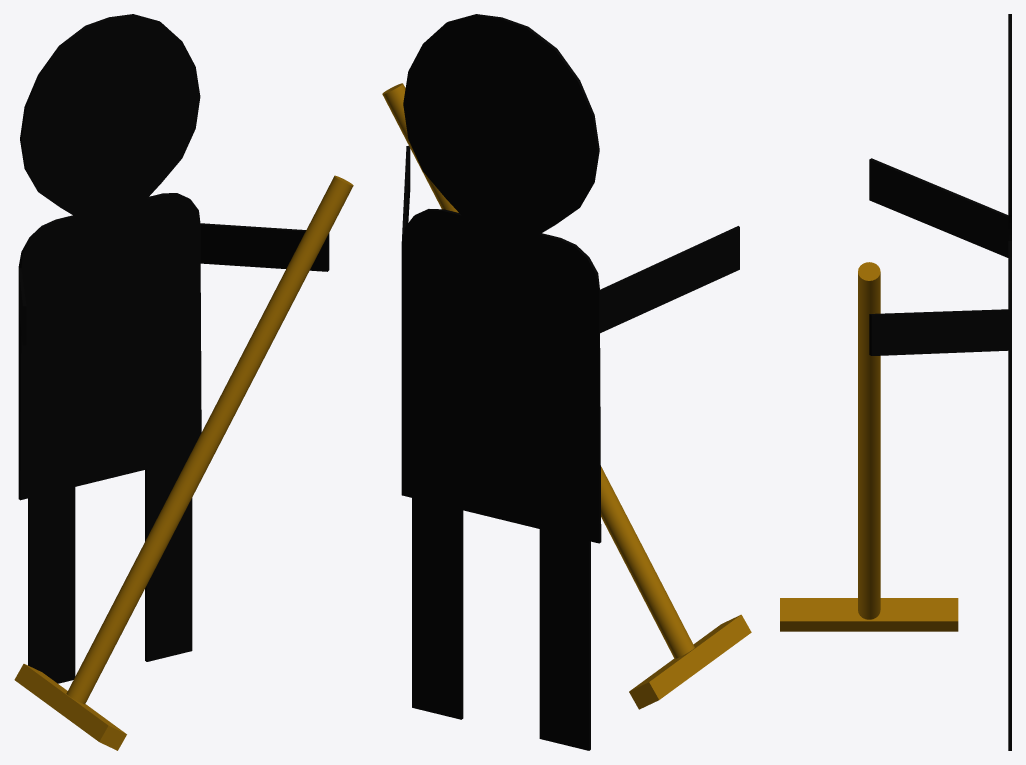
The model's file is Figure.fbx.
3 views of the same model, side by side, from view 1: azimuth 30°, elevation 25°; view 2: azimuth 150°, elevation 25°; view 3: azimuth 270°, elevation 25° (orthographic). The views are drawn at different scales.
Parts seen in each view (by area): view 1: Guy, Bezem; view 2: Guy, Bezem; view 3: Guy, Bezem.
Part boxes in pixels (x1,y1,x2,y2): Guy: [18, 14, 329, 683]; Bezem: [14, 175, 353, 750]; Guy: [401, 14, 739, 750]; Bezem: [382, 83, 751, 709]; Guy: [869, 14, 1011, 750]; Bezem: [780, 262, 958, 631].
Size of the model in its own units: 3.6 by 6.85 by 2.1.
